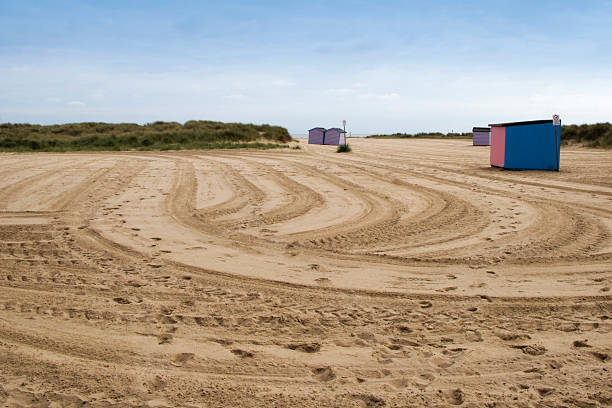vehicle_track: (0, 147, 611, 406), (0, 220, 609, 405), (164, 172, 607, 274), (3, 224, 337, 296), (326, 164, 485, 253), (385, 202, 606, 263), (168, 154, 321, 241), (348, 154, 611, 204), (418, 200, 608, 262), (275, 158, 401, 248), (164, 159, 263, 247), (469, 202, 611, 263), (489, 193, 609, 262), (19, 221, 156, 276), (221, 155, 322, 228), (415, 159, 611, 195), (0, 155, 126, 211), (192, 161, 264, 223), (0, 160, 84, 210), (49, 158, 128, 210), (170, 164, 210, 230), (0, 156, 57, 188), (289, 230, 350, 256)
